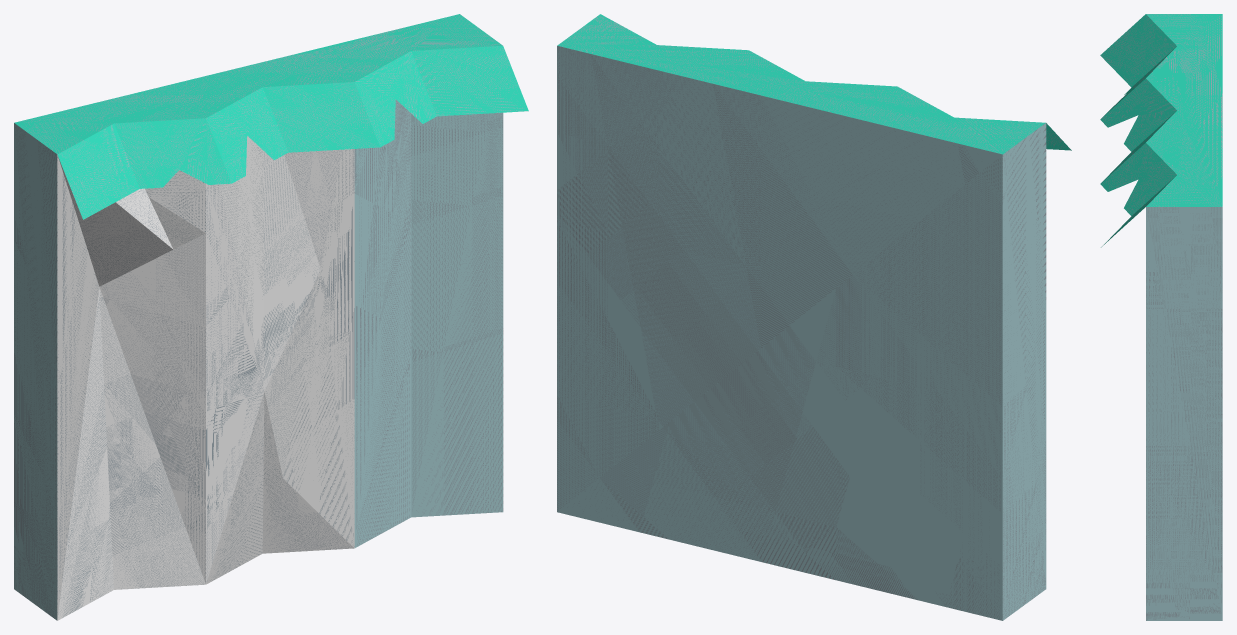
File: cliff_top_stone2.dae
3 views of the same model, side by side, from view 1: azimuth 30°, elevation 25°; view 2: azimuth 150°, elevation 25°; view 3: azimuth 270°, elevation 25° (orthographic). The views are drawn at different scales.
Parts seen in each view (by area): view 1: skp5217 (×3); view 2: skp5217 (×2); view 3: skp5217 (×2).
Boxes of the visible parts, x1=… form: skp5217 (×3): x1=14, y1=14, x2=528, y2=620; skp5217 (×2): x1=557, y1=14, x2=1071, y2=620; skp5217 (×2): x1=1100, y1=14, x2=1222, y2=620.
Bounding box in the file's own units: 39.37 × 10.57 × 39.37.
